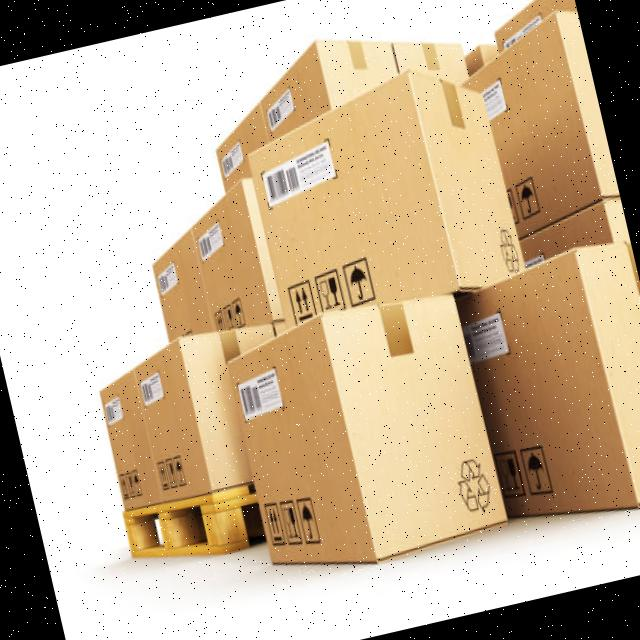Wooden-Pallets: (120, 488, 261, 560)
